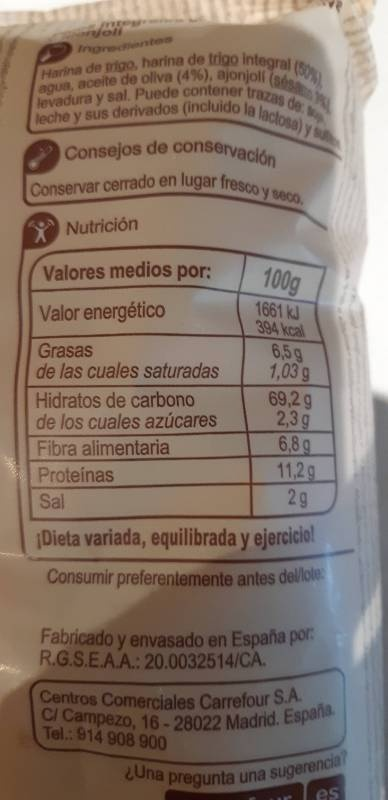column: (35, 263, 220, 508), (257, 268, 315, 507)
table: (27, 252, 338, 520)
